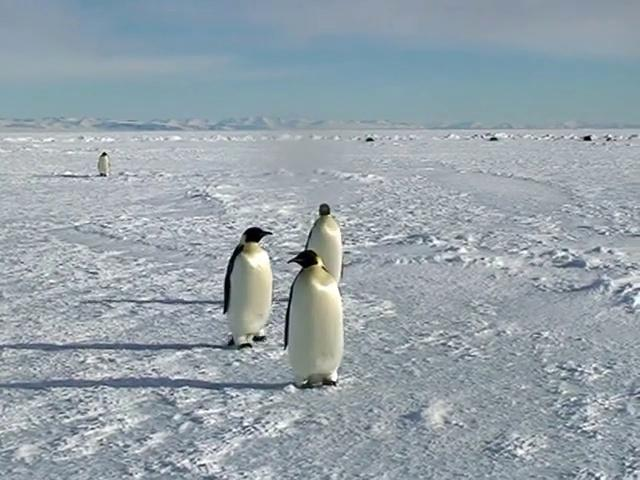animal: (306, 205, 344, 283)
